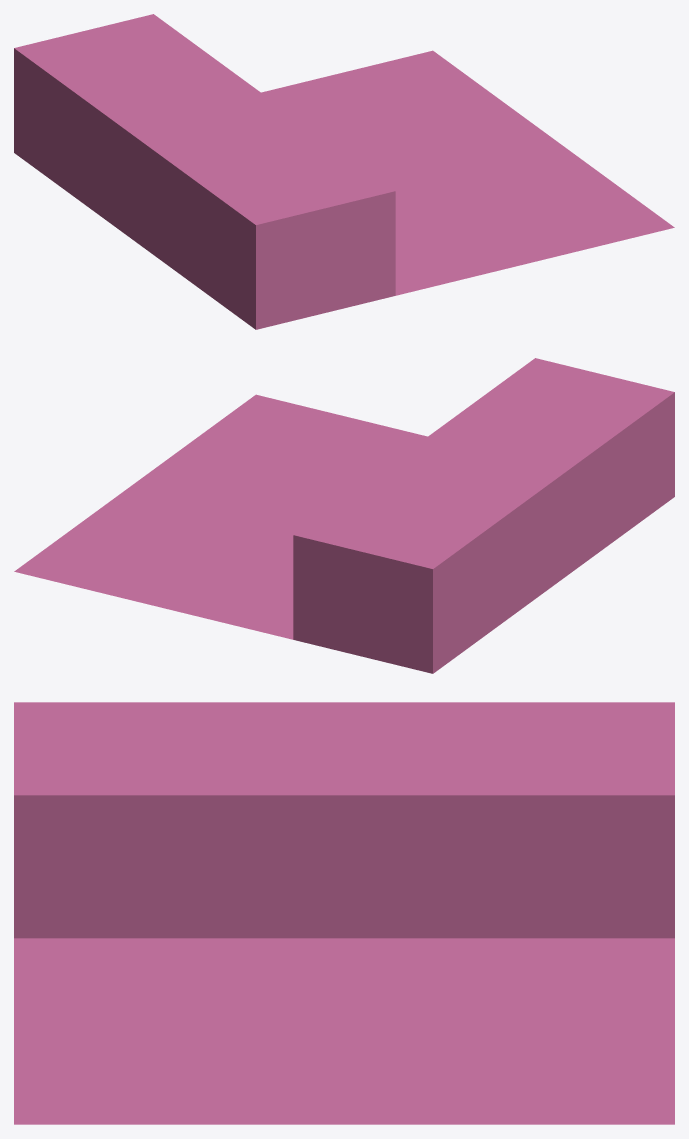
Rendered from firstFloorTile.dae.
3 renders of one model, top to bottom at view 1: azimuth 30°, elevation 25°; view 2: azimuth 150°, elevation 25°; view 3: azimuth 270°, elevation 25°, orthographic. The views are drawn at different scales.
Parts seen in each view (by area): view 1: Plane; view 2: Plane; view 3: Plane.
Part boxes in pixels (left/top/right/bottom): Plane: left=14, top=14, right=674, bottom=329; Plane: left=14, top=358, right=674, bottom=673; Plane: left=14, top=702, right=674, bottom=1124.
Size of the model in its own units: 16 by 16 by 3.82.
